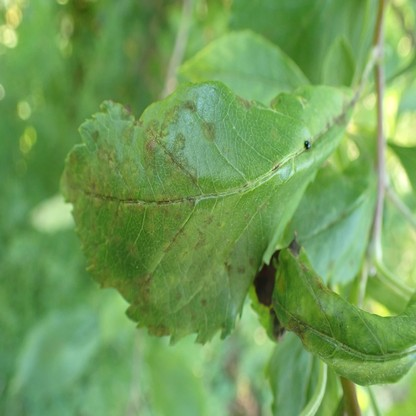scab: (67, 97, 272, 338), (255, 234, 333, 350), (322, 89, 360, 134)
